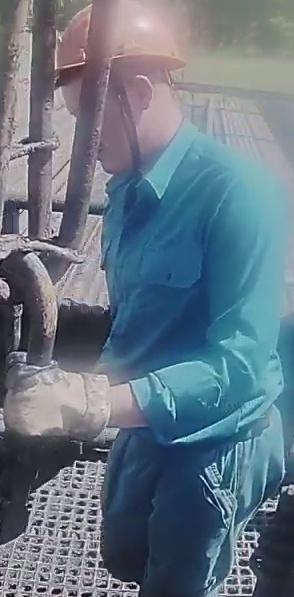gloves: (3, 347, 137, 443)
helmet: (52, 1, 191, 84)
vest: (100, 130, 286, 446)
